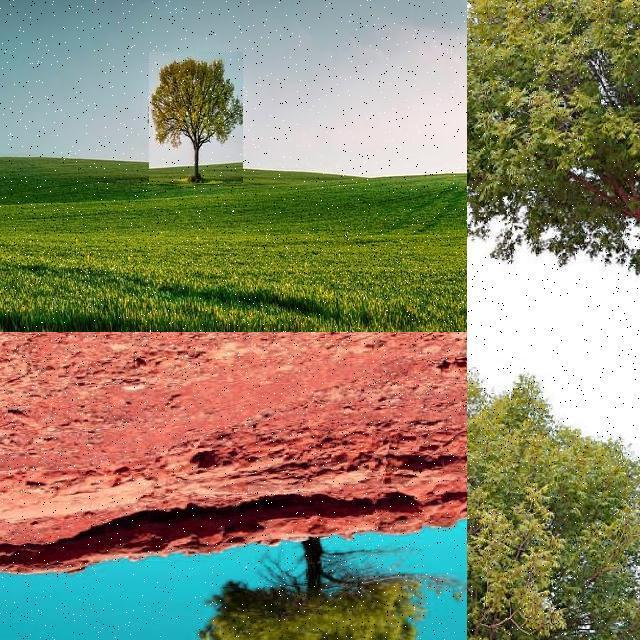tree: (467, 0, 640, 332), (467, 332, 640, 640), (200, 528, 424, 640), (149, 52, 243, 184)
